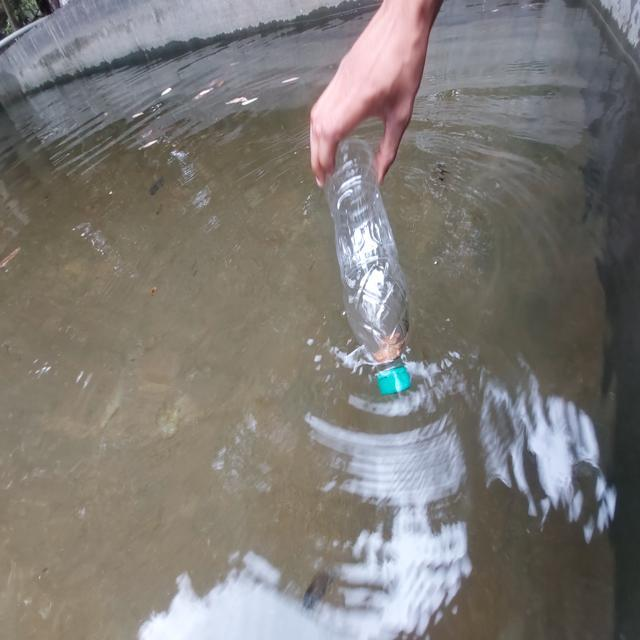waterbottle: (296, 133, 451, 424)
